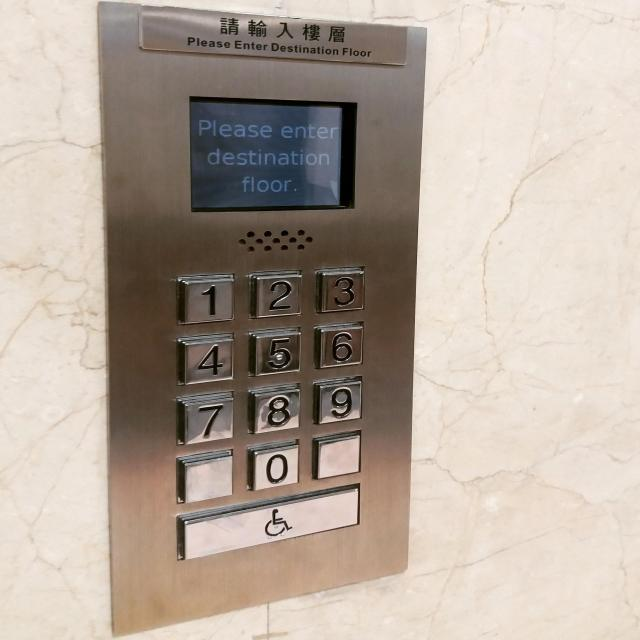0: (246, 441, 300, 494)
1: (174, 270, 238, 326)
2: (248, 268, 308, 320)
3: (314, 263, 369, 315)
4: (178, 335, 236, 386)
5: (246, 326, 306, 378)
6: (312, 320, 366, 373)
7: (176, 392, 234, 448)
8: (247, 382, 302, 435)
9: (311, 377, 365, 429)
CH: (176, 481, 363, 567)
empty: (174, 448, 235, 504), (310, 428, 362, 482)
led: (189, 89, 361, 216)
